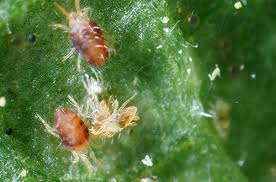Mites: (48, 7, 114, 65), (40, 100, 93, 165)
